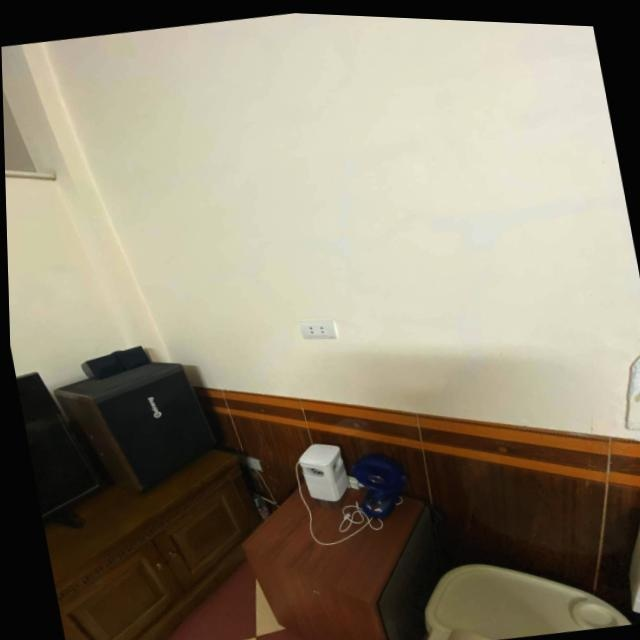outlet: (298, 316, 339, 344)
